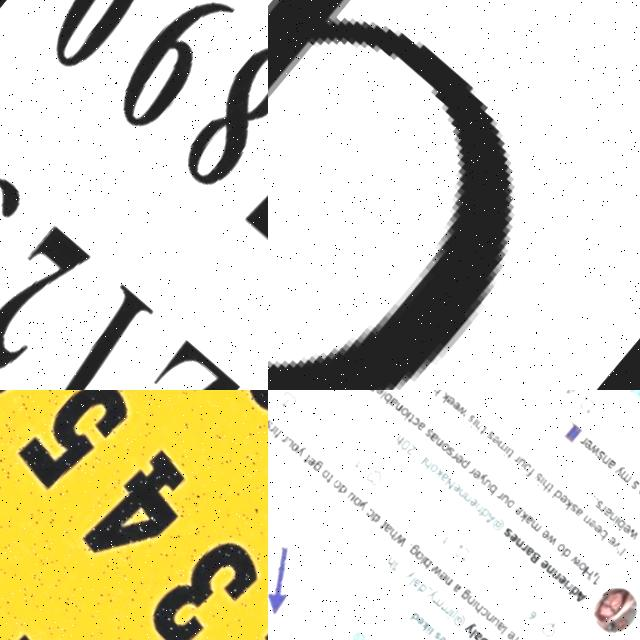0: (0, 0, 215, 121), (559, 390, 572, 393)
1: (0, 251, 186, 390)
2: (0, 200, 122, 390), (516, 606, 529, 619)
3: (101, 500, 268, 640), (0, 144, 58, 355)
4: (15, 405, 242, 628)
5: (0, 390, 174, 538)
7: (188, 57, 268, 284)
8: (121, 14, 268, 227)
9: (57, 0, 268, 175)
Q: (268, 0, 640, 390)
